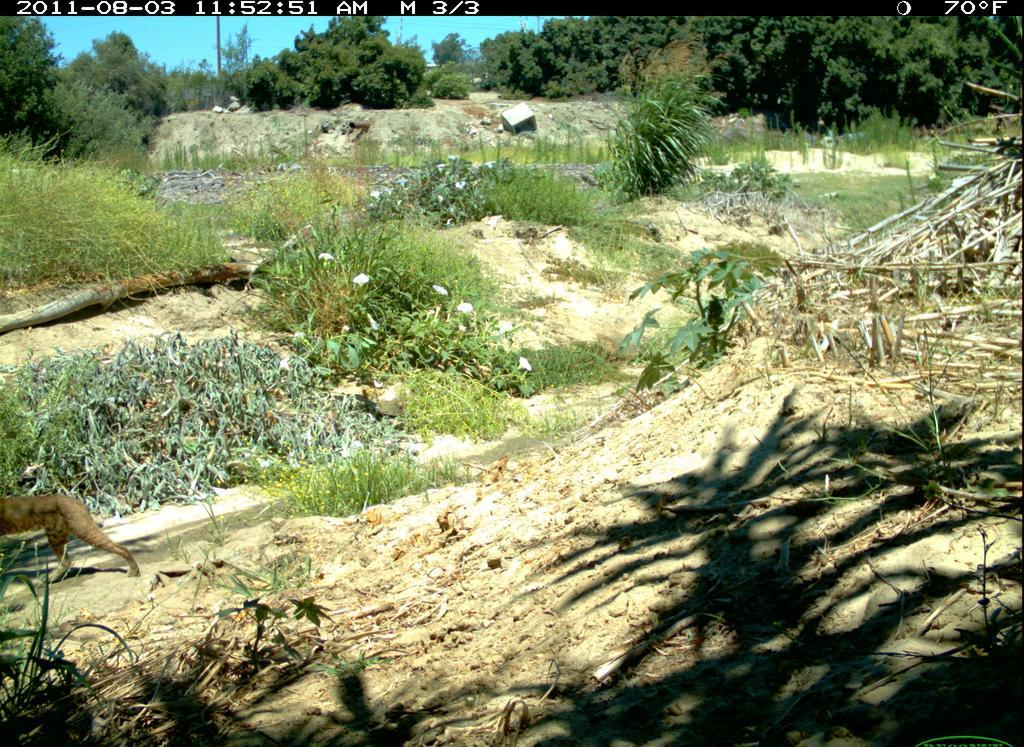bobcat: (1, 479, 148, 589)
